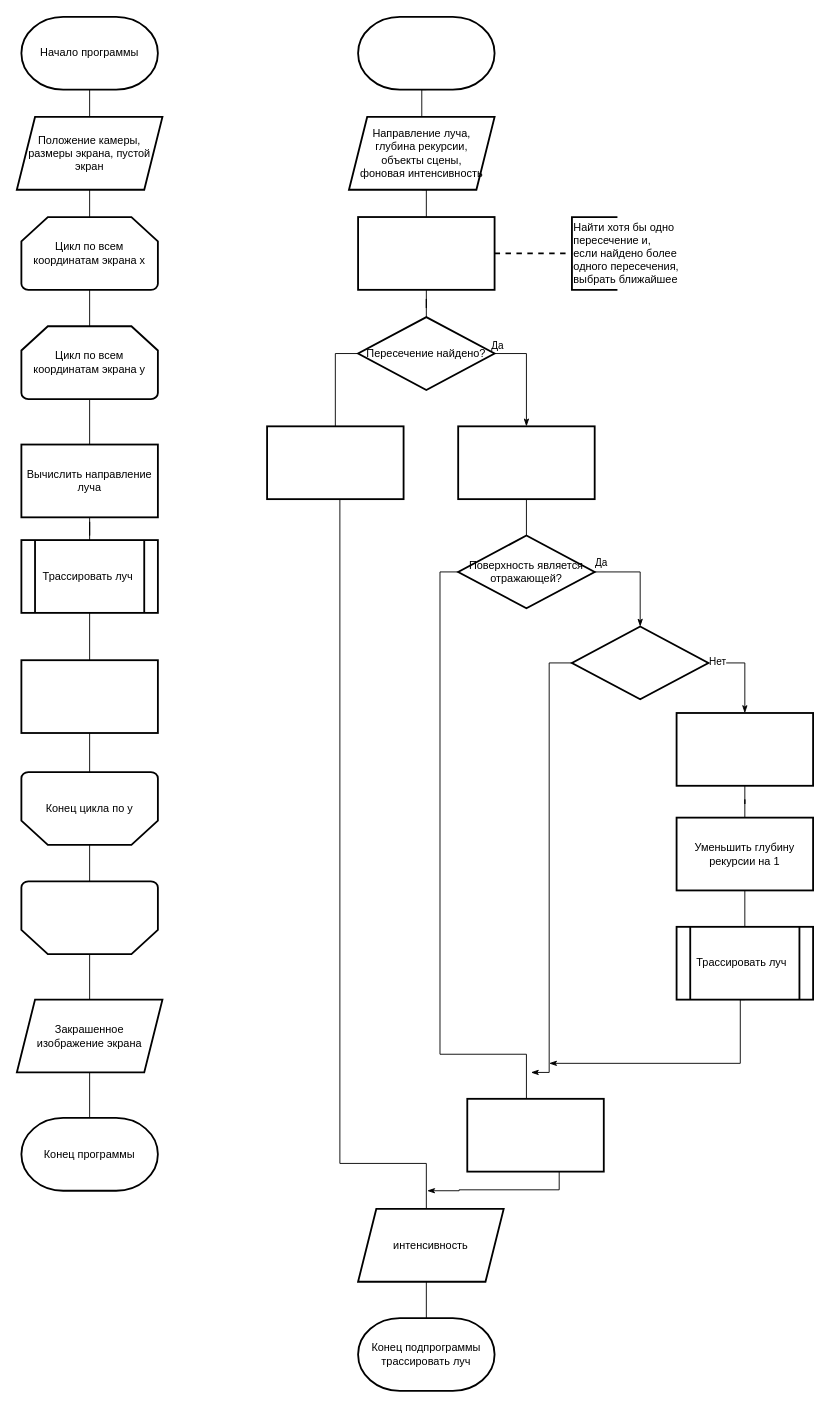
The diagram is 829 pixels wide and 1407 high, and some of its shapes have lost their labels. The shapes that lost their labels are listed below. From the top down, each one's box as (x1, y1, x2, y2) in pixels, then its label:
(357, 15, 495, 90): Начало подпрограммы трассировать луч
(357, 216, 495, 290): Найти ближайшее пересечение луча с объектом сцены
(266, 425, 404, 500): интенсивность = фоновая интенсивность
(457, 425, 595, 500): интенсивность= интенсивность в точке пересечения
(571, 625, 709, 700): Глубина рекурсии равна 0?
(20, 659, 158, 733): Закрасить пиксел с координатами (x, y) с полученной интенсивностью
(675, 712, 814, 786): Вычислить направление отраженного луча
(20, 880, 158, 955): Конец цикла по x
(466, 1097, 604, 1172): интенсивность = суммарная интенсивность
